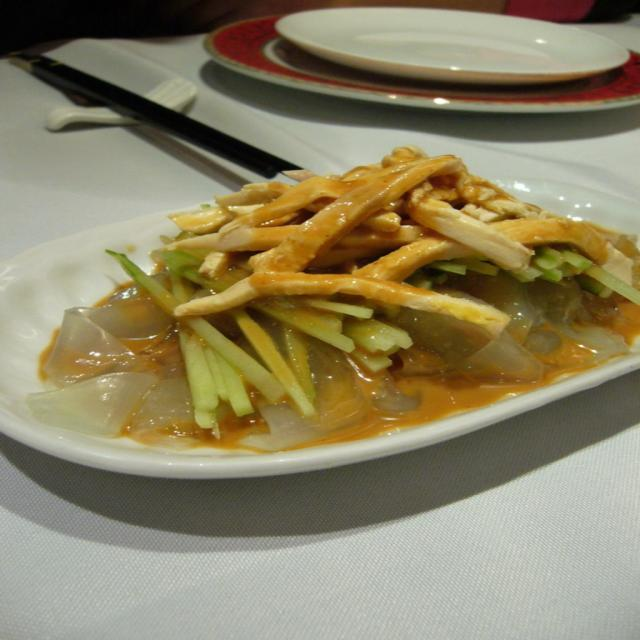ceramic plate: (21, 195, 640, 483)
